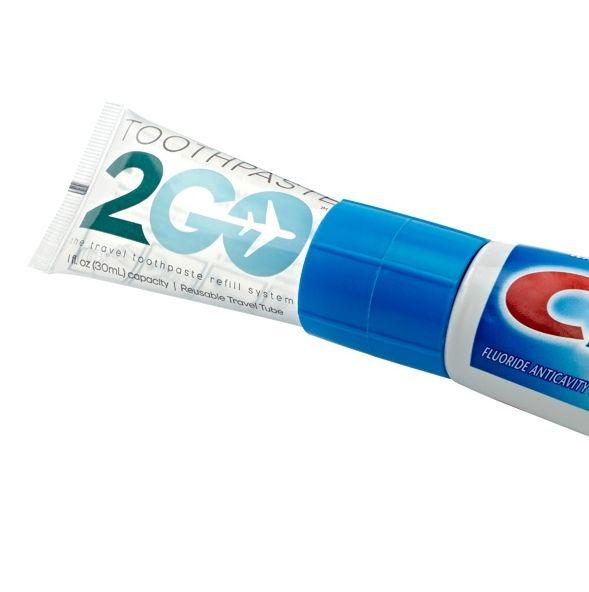toothpaste: (31, 75, 589, 435)
